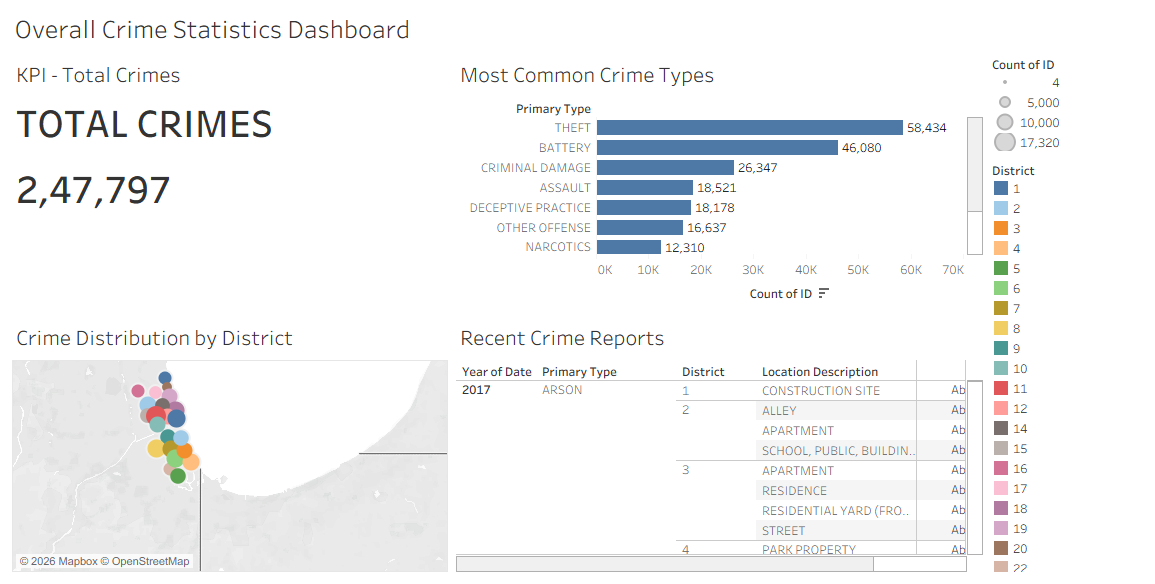

The dashboard page shown, as its layout file describes it:
{"tool":"tableau","page":{"name":"Overall Crime Statistics Dashboard","canvas":[1000,1000],"units":"permille","ordinal":2},"visuals":[{"type":"title","box":[6.9,13.7,986.1,71.9]},{"type":"worksheet","title":"KPI - Total Crimes","mark":"Text","box":[6.9,85.6,384.4,450.3]},{"type":"worksheet","title":"Most Common Crime Types","mark":"Automatic","rows":["Primary Type"],"cols":["ID"],"box":[391.3,85.6,463.2,450.3]},{"type":"legend","title":"Crime Distribution by District","param":"[federated.0sb4vrp04rdnd515fpecp0ylfsqa].[cnt:ID:qk]","box":[854.5,85.6,138.5,181.5]},{"type":"legend","title":"Crime Distribution by District","param":"[federated.0sb4vrp04rdnd515fpecp0ylfsqa].[none:District:ok]","box":[854.5,267.1,138.5,719.2]},{"type":"worksheet","title":"Crime Distribution by District","mark":"Circle","rows":["Latitude"],"cols":["Longitude"],"box":[6.9,536,384.4,450.3]},{"type":"worksheet","title":"Recent Crime Reports","mark":"Automatic","rows":["Date","Primary Type","District","Location Description"],"box":[391.3,536,463.2,450.3]}]}

Visuals, with their boxes on the dashboard's canvas, which has no fixed pixel size, in thousandths of its width and height (x1, y1, x2, y2). These are canvas units, not pixel positions in the 1155x584 screenshot, which may show the page scaled, cropped or inside an application window:
title: locate(7, 14, 993, 86)
"KPI - Total Crimes" worksheet (Text marks): locate(7, 86, 391, 536)
"Most Common Crime Types" worksheet: locate(391, 86, 854, 536)
"Crime Distribution by District" legend: locate(854, 86, 993, 267)
"Crime Distribution by District" legend: locate(854, 267, 993, 986)
"Crime Distribution by District" worksheet (Circle marks): locate(7, 536, 391, 986)
"Recent Crime Reports" worksheet: locate(391, 536, 854, 986)
